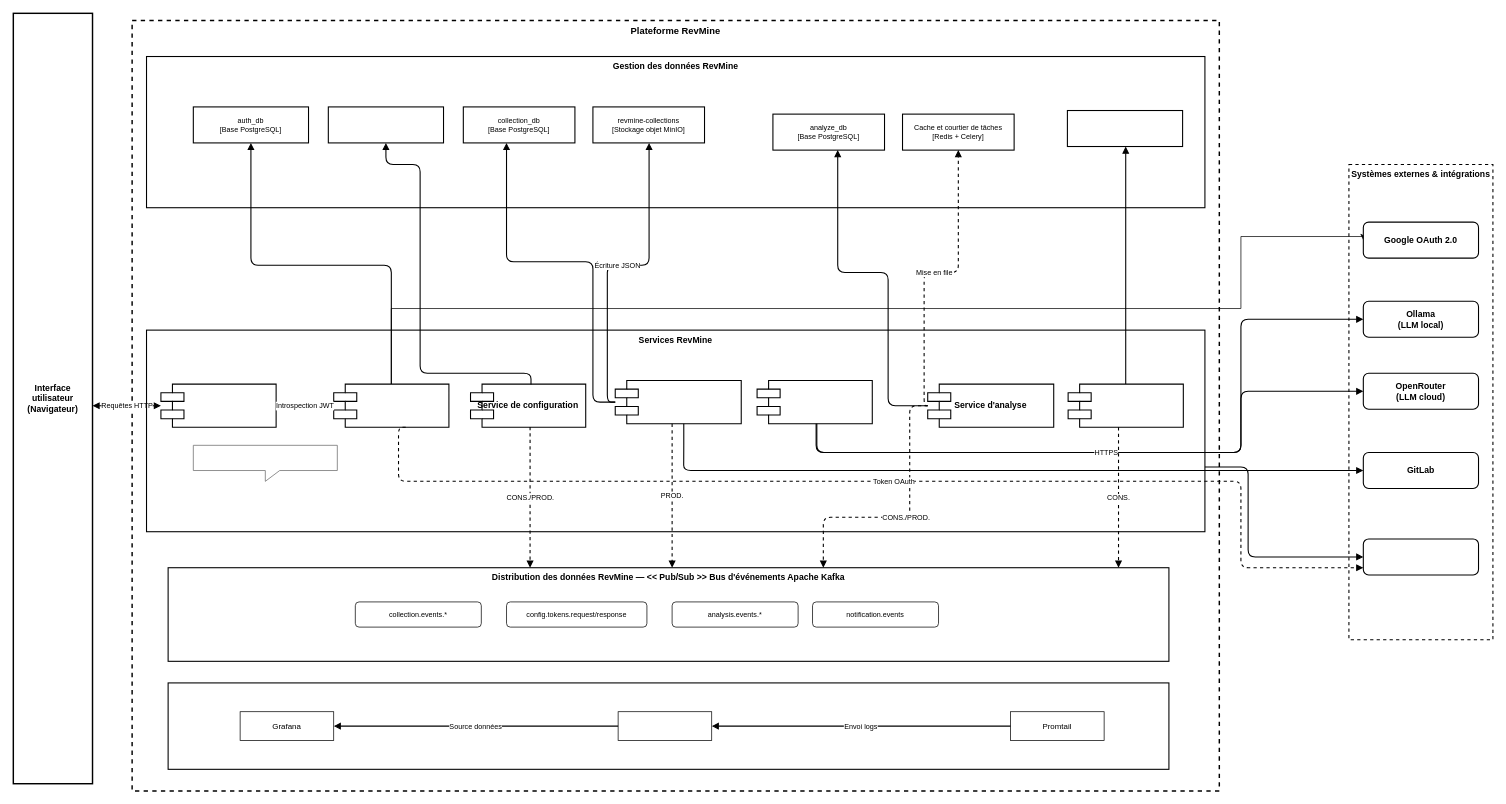
Some shapes in this 1506 by 804 pixel diagram are drawn without their labels. Here are the shapes that lost their labels. From the top down, the box of each, then its label:
(327, 106, 444, 143): configuration_db [Base PostgreSQL]
(1067, 110, 1183, 147): notification_db [Base PostgreSQL]
(160, 383, 276, 428): API Gateway
(333, 383, 449, 428): Service d'authentification
(614, 380, 741, 424): Service de collecte
(756, 380, 872, 424): Service LLM
(1067, 383, 1184, 428): Service de notification
(193, 445, 337, 481): * Connexions HTTP vers les services RevMine
(1362, 538, 1479, 575): GitHub
(617, 711, 712, 741): Loki
(167, 682, 1169, 770): Surveillance & observabilité
